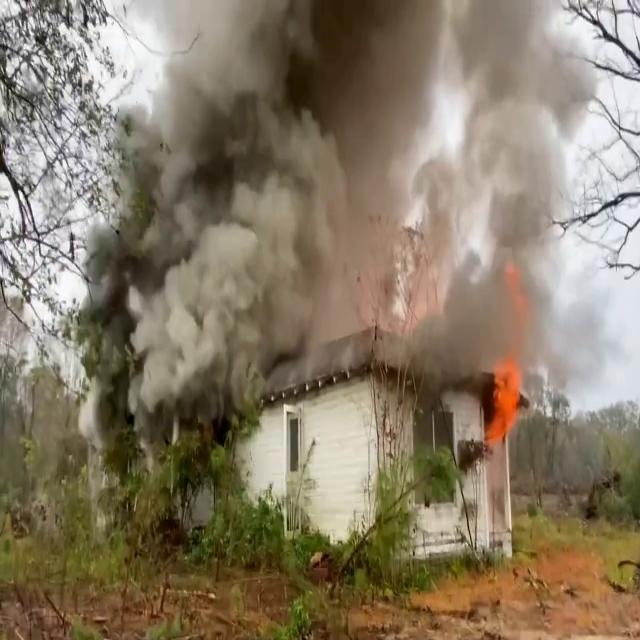Fire: (483, 346, 536, 444)
Smoke: (81, 0, 391, 385), (420, 1, 600, 342)
